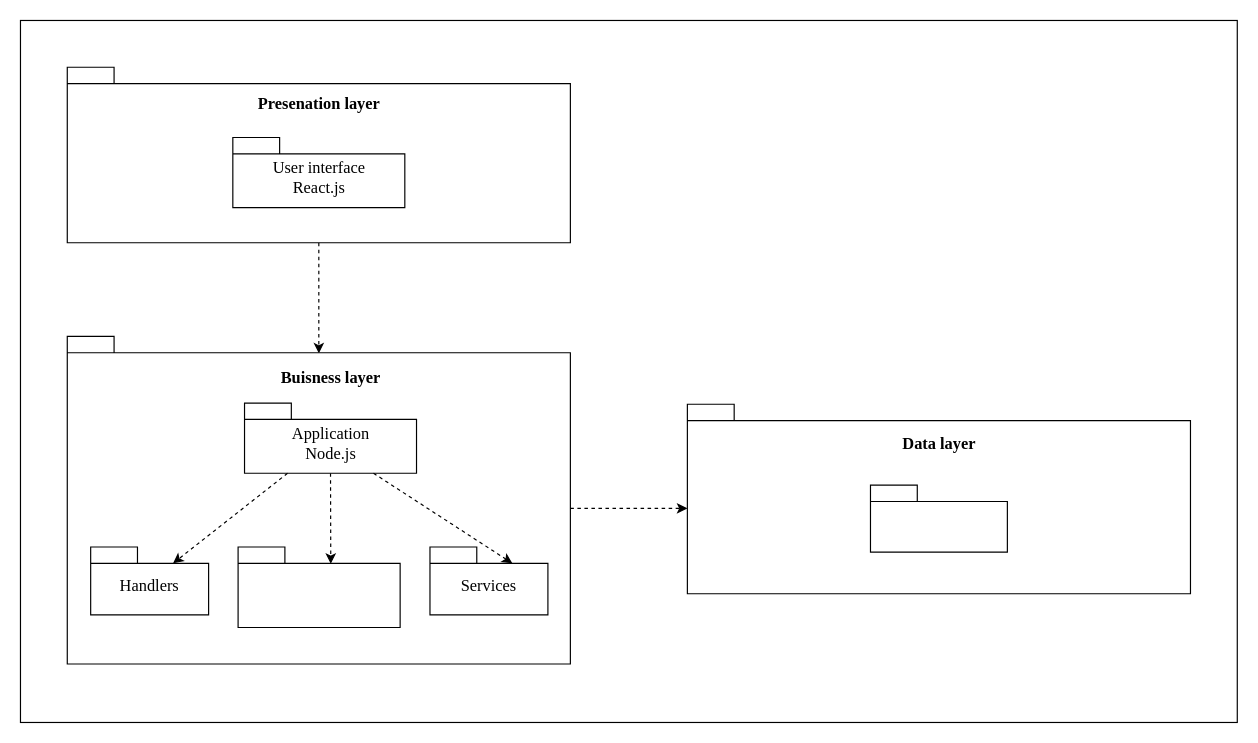
Image size: 1258x743. Some labels were removed from this diagram. Each missing label, with the centre of its shape:
"Buisness Entity (Users, Recipes, Ingredients)" goes at (318,586).
"Data access SQL Server 2022" goes at (938,518).
